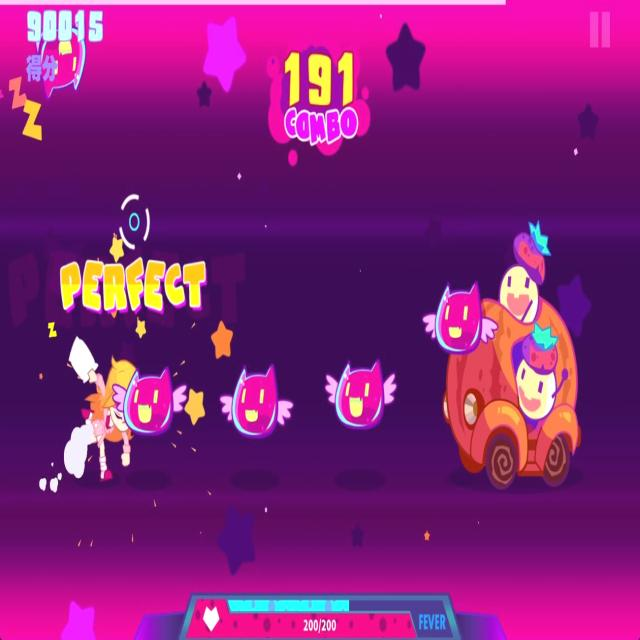cheboss: (440, 217, 584, 492)
mao: (422, 278, 499, 356), (220, 360, 294, 440), (112, 362, 187, 440), (323, 357, 398, 431), (36, 20, 88, 97)
